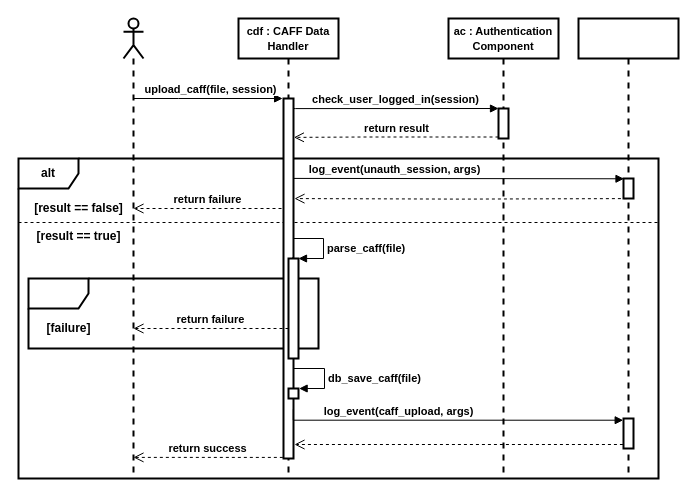
The diagram is 696 pixels wide and 496 high, and some of its shapes have lost their labels. The shapes that lost their labels are listed below. From the top down, each one's box as (x1, y1, x2, y2) in pixels, then its label:
(577, 17, 679, 479): ldh : Log Data Handler
(27, 277, 319, 349): opt
